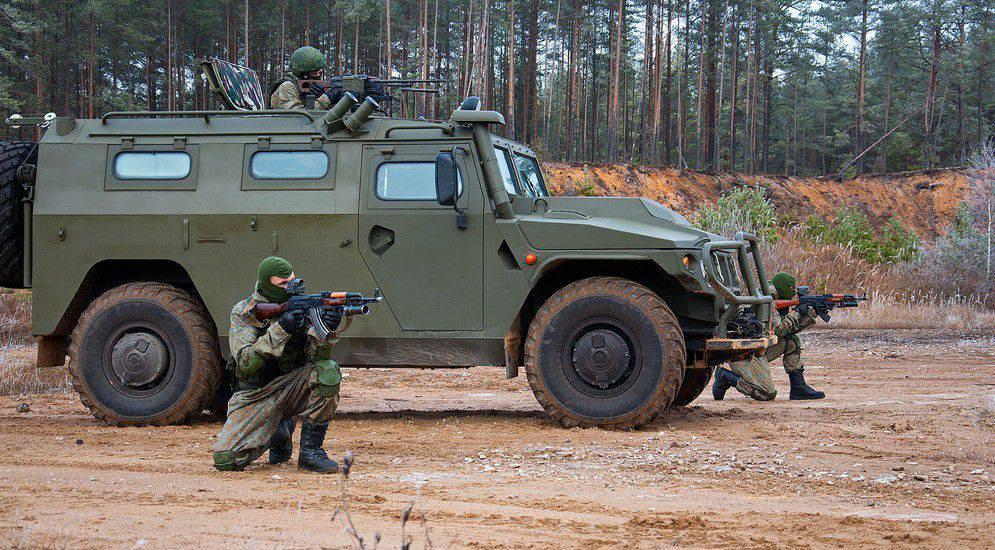armored_car: (0, 56, 776, 429)
